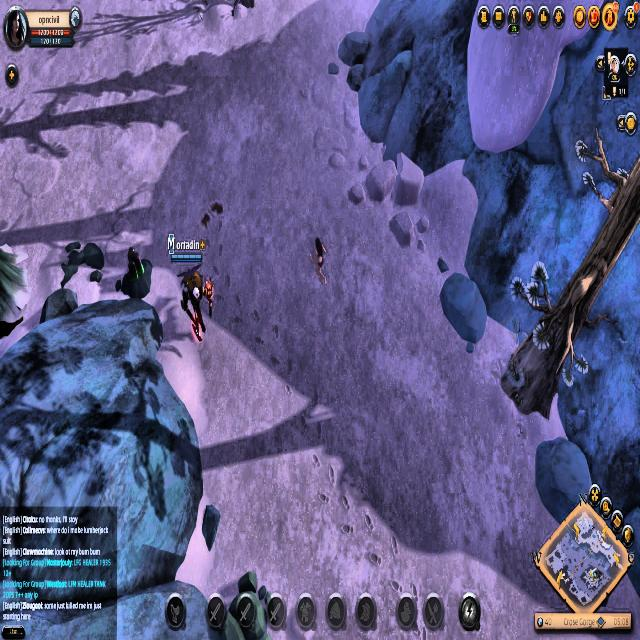tin_ore: (120, 236, 154, 302)
